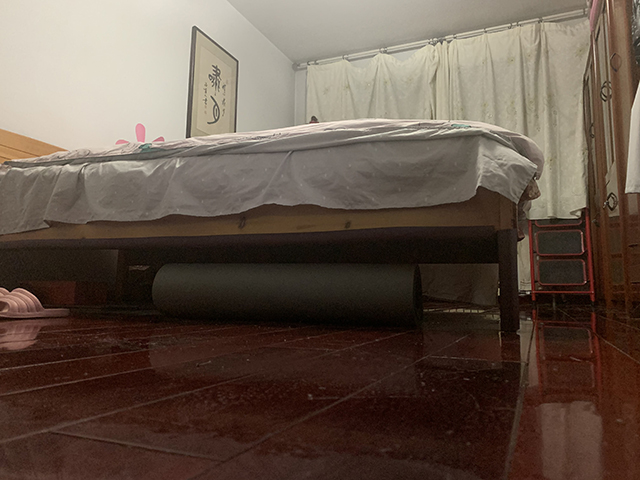bed: (1, 117, 546, 333)
cabinet: (581, 1, 638, 307)
slippers: (1, 286, 72, 321)
